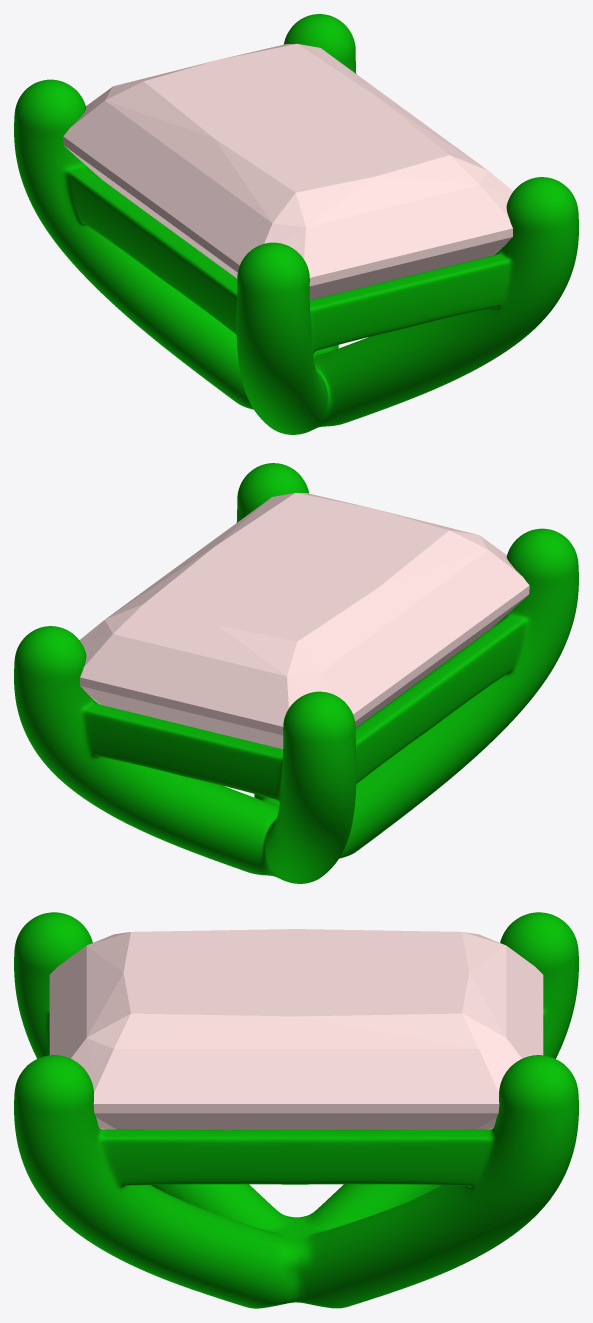
The picture shows the model from 3 angles, top to bottom: view 1: azimuth 30°, elevation 25°; view 2: azimuth 150°, elevation 25°; view 3: azimuth 270°, elevation 25°; orthographic projection. The views are drawn at different scales.
Visible parts, largest first — view 1: Metal01, Diamond_Radiant; view 2: Metal01, Diamond_Radiant; view 3: Metal01, Diamond_Radiant.
Boxes of the visible parts, x1=… form: Metal01: x1=14, y1=14, x2=578, y2=434; Diamond_Radiant: x1=63, y1=43, x2=513, y2=299; Metal01: x1=14, y1=463, x2=578, y2=883; Diamond_Radiant: x1=79, y1=493, x2=529, y2=749; Metal01: x1=14, y1=912, x2=578, y2=1308; Diamond_Radiant: x1=49, y1=929, x2=543, y2=1130.
Size of the model in its own units: 7.35 by 6.23 by 9.96.
